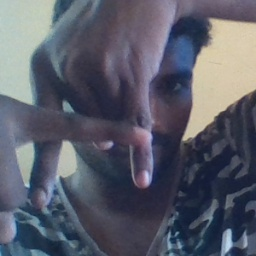H: (7, 66, 169, 210)
